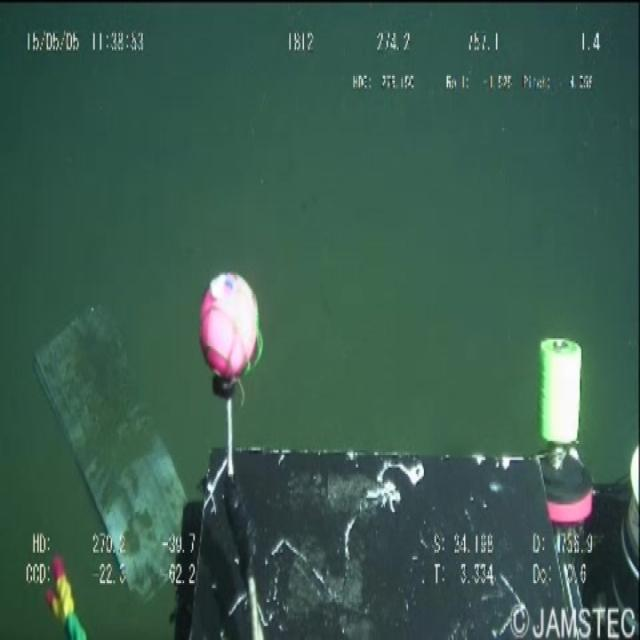Metal: (32, 298, 196, 597)
